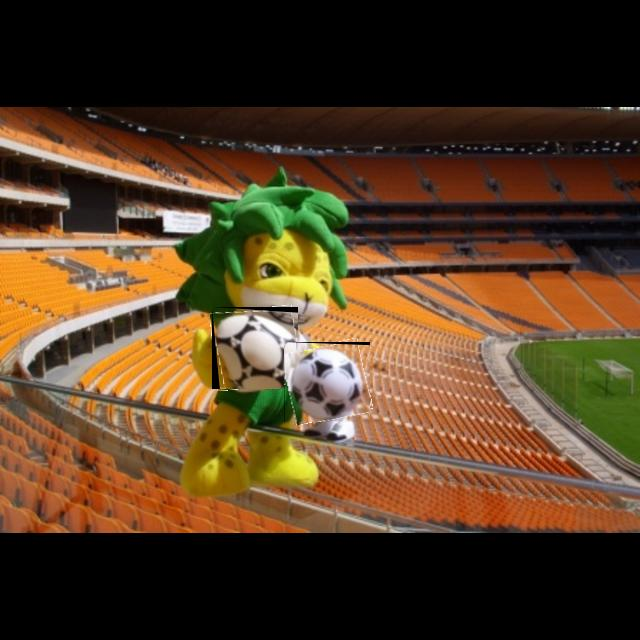Football: (212, 307, 298, 389), (284, 342, 370, 422)
